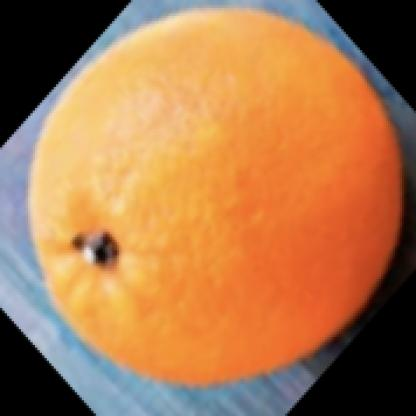fresh: (30, 10, 404, 385)
